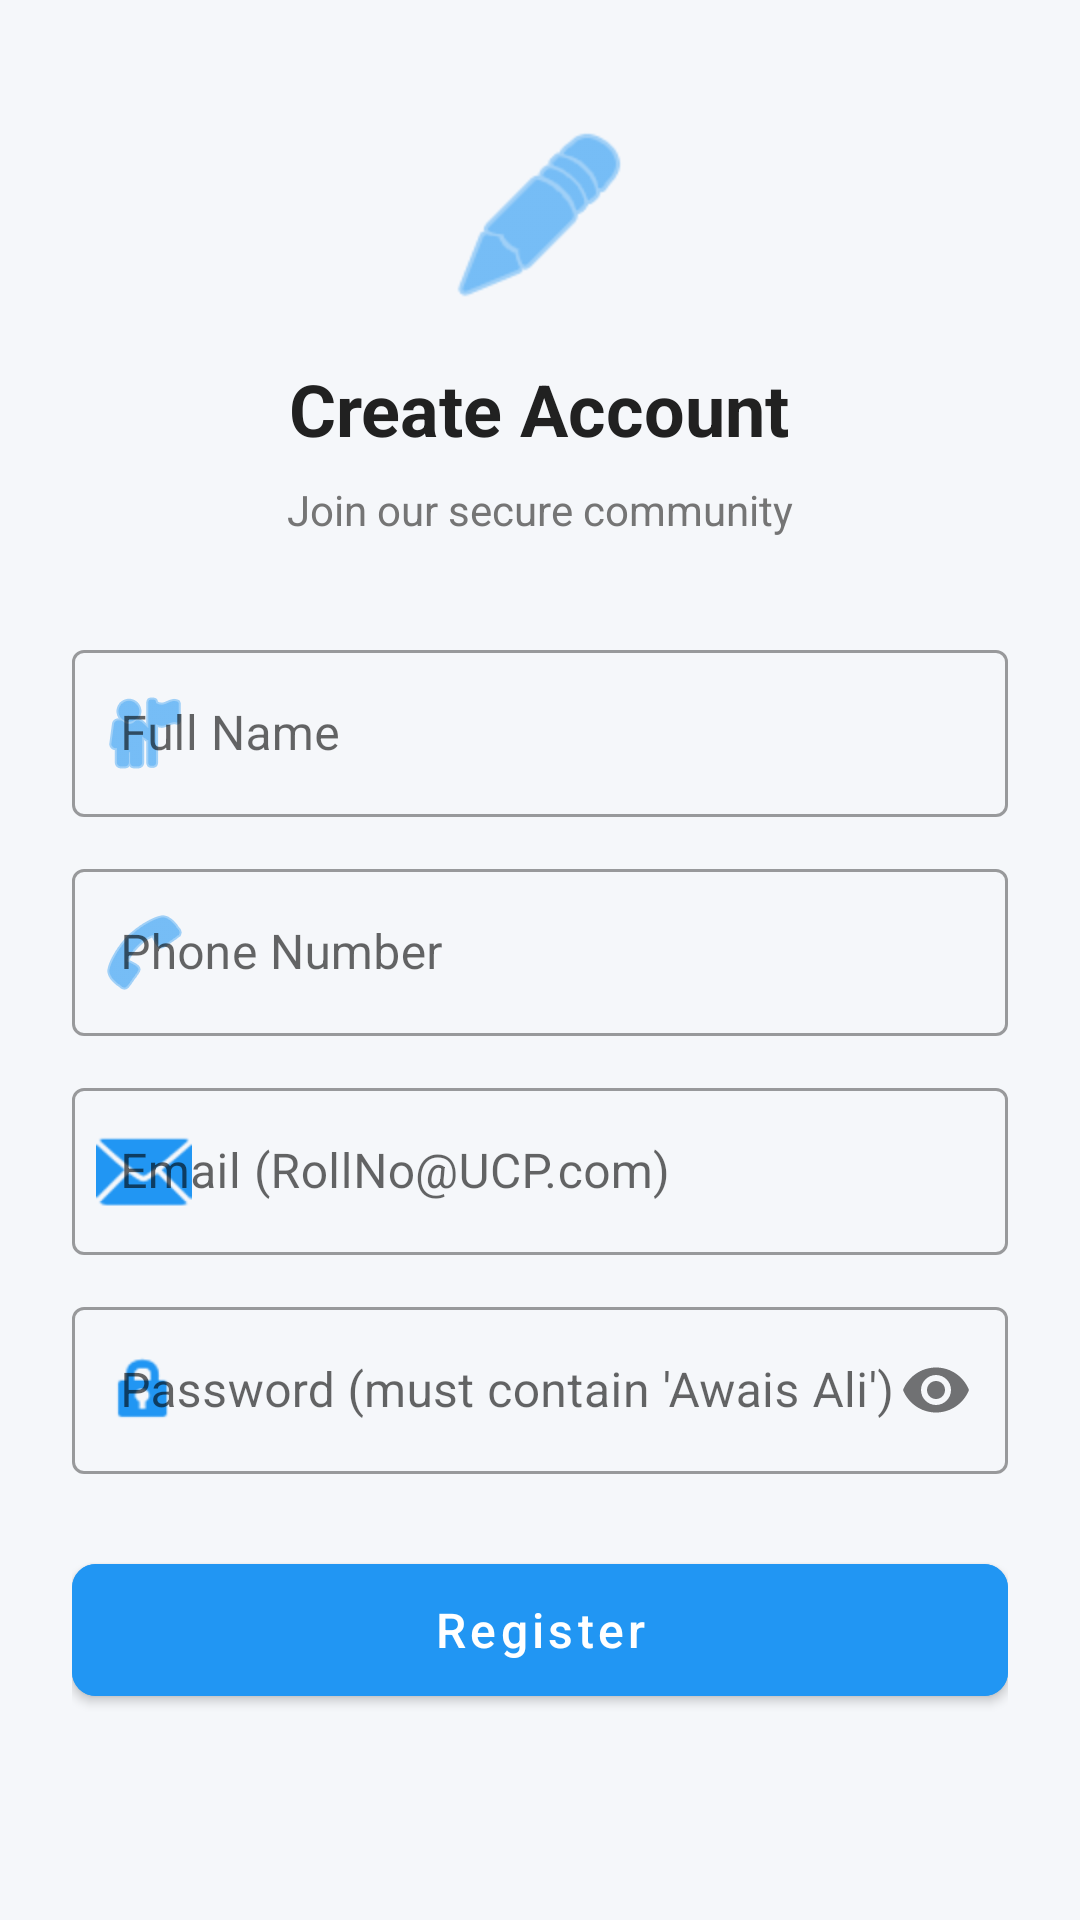

Icon bounding boxes for this 1080x1920 phone screenshot, format bbox=[x1, y1, x2, y2]:
Register Icon: bbox=[458, 133, 620, 296]
